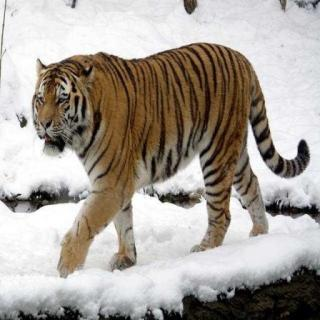Tiger: (30, 32, 320, 271)
